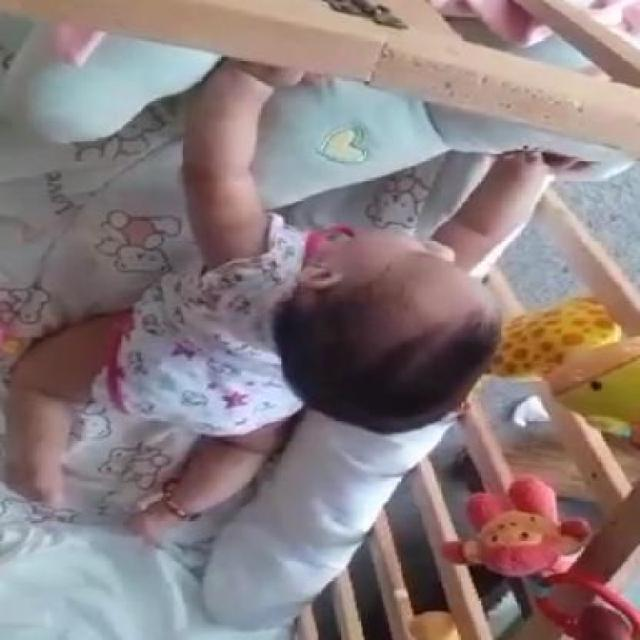baby: (12, 53, 497, 544)
